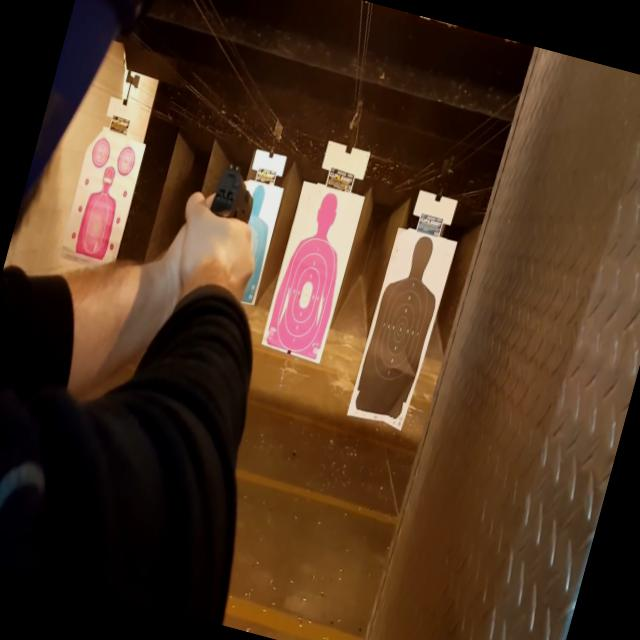handgun: (182, 137, 275, 302)
